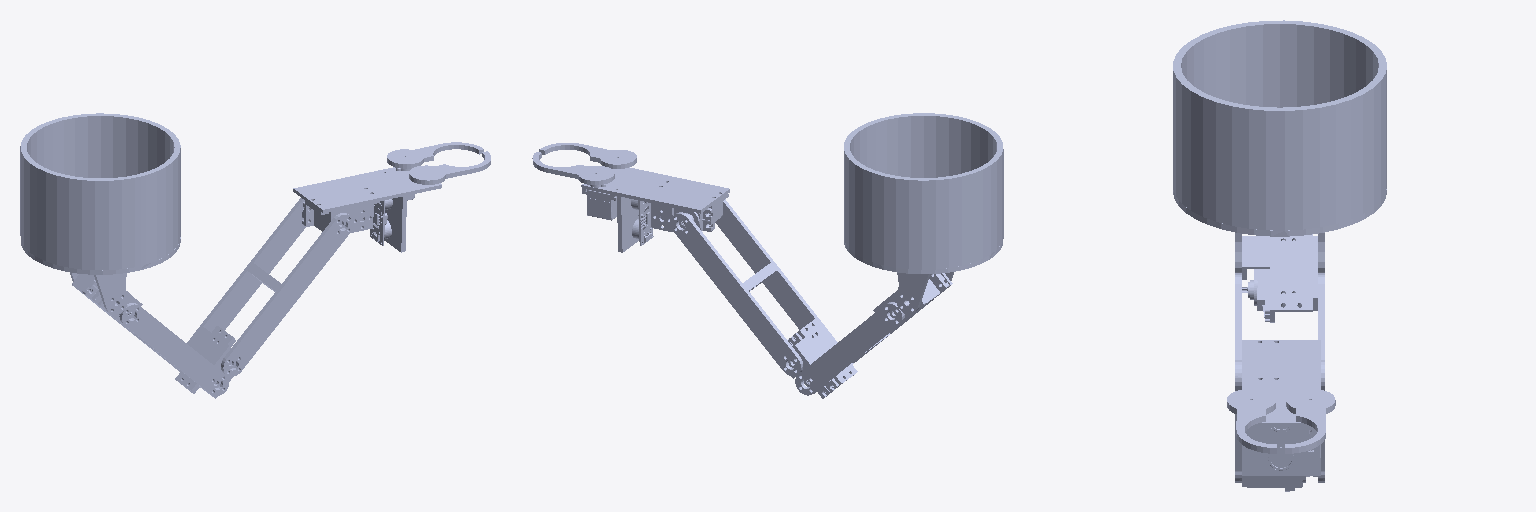
URDF robot description (ASSEM 2):
<?xml version="1.0" encoding="utf-8"?>
<!-- This URDF was automatically created by SolidWorks to URDF Exporter! Originally created by [author] ([email redacted]) 
     Commit Version: 1.6.0-4-g7f85cfe  Build Version: 1.6.7995.38578
     For more information, please see http://wiki.ros.org/sw_urdf_exporter -->
<robot
  name="ASSEM 2">
  <link
    name="base_link">
    <inertial>
      <origin
        xyz="0 1.38777878078145E-17 -0.04"
        rpy="0 0 0" />
      <mass
        value="0.15707963267949" />
      <inertia
        ixx="0.000391062835524979"
        ixy="6.21980377065526E-36"
        ixz="-9.88120452211026E-36"
        iyy="0.00039106283552498"
        iyz="6.48862588558017E-36"
        izz="0.000614574062858504" />
    </inertial>
    <visual>
      <origin
        xyz="0 0 0"
        rpy="0 0 0" />
      <geometry>
        <mesh
          filename="package://ASSEM 2/meshes/base_link.STL" />
      </geometry>
      <material
        name="">
        <color
          rgba="0.792156862745098 0.819607843137255 0.933333333333333 1" />
      </material>
    </visual>
    <collision>
      <origin
        xyz="0 0 0"
        rpy="0 0 0" />
      <geometry>
        <mesh
          filename="package://ASSEM 2/meshes/base_link.STL" />
      </geometry>
    </collision>
  </link>
  <link
    name="link1">
    <inertial>
      <origin
        xyz="0.00277146259382868 0.000977617047691573 -0.0392275940929765"
        rpy="0 0 0" />
      <mass
        value="0.10392584627471" />
      <inertia
        ixx="8.06918285221046E-05"
        ixy="-2.30972045071663E-07"
        ixz="1.9180114960661E-06"
        iyy="7.3013450070366E-05"
        iyz="2.74033815861124E-07"
        izz="0.000130206094147028" />
    </inertial>
    <visual>
      <origin
        xyz="0 0 0"
        rpy="0 0 0" />
      <geometry>
        <mesh
          filename="package://ASSEM 2/meshes/link1.STL" />
      </geometry>
      <material
        name="">
        <color
          rgba="0.792156862745098 0.819607843137255 0.933333333333333 1" />
      </material>
    </visual>
    <collision>
      <origin
        xyz="0 0 0"
        rpy="0 0 0" />
      <geometry>
        <mesh
          filename="package://ASSEM 2/meshes/link1.STL" />
      </geometry>
    </collision>
  </link>
  <joint
    name="joint1"
    type="revolute">
    <origin
      xyz="0 0 -0.065295"
      rpy="0 0 0" />
    <parent
      link="base_link" />
    <child
      link="link1" />
    <axis
      xyz="0 0 -1" />
    <limit
      lower="0"
      upper="0"
      effort="0"
      velocity="0" />
  </joint>
  <link
    name="link2">
    <inertial>
      <origin
        xyz="0.0403015509937278 -0.0403015509937268 0.0815648422319146"
        rpy="0 0 0" />
      <mass
        value="0.0258099114254626" />
      <inertia
        ixx="1.91418266297321E-05"
        ixy="4.72708625206505E-06"
        ixz="-5.50219404184871E-21"
        iyy="1.91418266297323E-05"
        iyz="5.27278066883589E-21"
        izz="1.12484016319642E-05" />
    </inertial>
    <visual>
      <origin
        xyz="0 0 0"
        rpy="0 0 0" />
      <geometry>
        <mesh
          filename="package://ASSEM 2/meshes/link2.STL" />
      </geometry>
      <material
        name="">
        <color
          rgba="0.792156862745098 0.819607843137255 0.933333333333333 1" />
      </material>
    </visual>
    <collision>
      <origin
        xyz="0 0 0"
        rpy="0 0 0" />
      <geometry>
        <mesh
          filename="package://ASSEM 2/meshes/link2.STL" />
      </geometry>
    </collision>
  </link>
  <joint
    name="joint2"
    type="revolute">
    <origin
      xyz="0.014245 0.081565 -0.077949"
      rpy="1.5708 0 0" />
    <parent
      link="link1" />
    <child
      link="link2" />
    <axis
      xyz="0 0 -1" />
    <limit
      lower="-3.14"
      upper="3.14"
      effort="0.8357"
      velocity="5.235" />
  </joint>
  <link
    name="link3">
    <inertial>
      <origin
        xyz="0.0323024454898762 0.0330392074388971 0.0830187996879243"
        rpy="0 0 0" />
      <mass
        value="0.0698780273763374" />
      <inertia
        ixx="3.55297243478853E-05"
        ixy="-1.12773149423438E-05"
        ixz="2.33341441598977E-07"
        iyy="3.59517146165329E-05"
        iyz="2.72019095535887E-07"
        izz="2.75333599213435E-05" />
    </inertial>
    <visual>
      <origin
        xyz="0 0 0"
        rpy="0 0 0" />
      <geometry>
        <mesh
          filename="package://ASSEM 2/meshes/link3.STL" />
      </geometry>
      <material
        name="">
        <color
          rgba="0.792156862745098 0.819607843137255 0.933333333333333 1" />
      </material>
    </visual>
    <collision>
      <origin
        xyz="0 0 0"
        rpy="0 0 0" />
      <geometry>
        <mesh
          filename="package://ASSEM 2/meshes/link3.STL" />
      </geometry>
    </collision>
  </link>
  <joint
    name="joint3"
    type="revolute">
    <origin
      xyz="0.0806066375213615 -0.0806066375213595 0"
      rpy="0 0 0" />
    <parent
      link="link2" />
    <child
      link="link3" />
    <axis
      xyz="0 0 -1" />
    <limit
      lower="-3.14"
      upper="3.14"
      effort="0.83357"
      velocity="5.235" />
  </joint>
  <link
    name="link4">
    <inertial>
      <origin
        xyz="0.0315375369846145 0.000942829333490151 0.0215178892714787"
        rpy="0 0 0" />
      <mass
        value="0.0770925872338047" />
      <inertia
        ixx="1.83587552242031E-05"
        ixy="3.43021070226104E-06"
        ixz="4.36773633370026E-07"
        iyy="3.62874257481099E-05"
        iyz="4.19679017550082E-08"
        izz="3.35923516563554E-05" />
    </inertial>
    <visual>
      <origin
        xyz="0 0 0"
        rpy="0 0 0" />
      <geometry>
        <mesh
          filename="package://ASSEM 2/meshes/link4.STL" />
      </geometry>
      <material
        name="">
        <color
          rgba="0.792156862745098 0.819607843137255 0.933333333333333 1" />
      </material>
    </visual>
    <collision>
      <origin
        xyz="0 0 0"
        rpy="0 0 0" />
      <geometry>
        <mesh
          filename="package://ASSEM 2/meshes/link4.STL" />
      </geometry>
    </collision>
  </link>
  <joint
    name="joint4"
    type="revolute">
    <origin
      xyz="0.117062359119247 0.115053071254504 0.0592138803375897"
      rpy="0 0 0" />
    <parent
      link="link3" />
    <child
      link="link4" />
    <axis
      xyz="0 0 -1" />
    <limit
      lower="-3.14"
      upper="3.14"
      effort="0.83357"
      velocity="5.235" />
  </joint>
  <link
    name="gripkiri">
    <inertial>
      <origin
        xyz="0.014682818458544 -0.000406177253536102 -0.0218916024198144"
        rpy="0 0 0" />
      <mass
        value="0.00468228410417343" />
      <inertia
        ixx="2.35592289956318E-07"
        ixy="-2.02600157549245E-08"
        ixz="-1.45292461833238E-22"
        iyy="2.06790380943813E-06"
        iyz="-6.46592022391514E-24"
        izz="2.29101000844998E-06" />
    </inertial>
    <visual>
      <origin
        xyz="0 0 0"
        rpy="0 0 0" />
      <geometry>
        <mesh
          filename="package://ASSEM 2/meshes/gripkiri.STL" />
      </geometry>
      <material
        name="">
        <color
          rgba="0.792156862745098 0.819607843137255 0.933333333333333 1" />
      </material>
    </visual>
    <collision>
      <origin
        xyz="0 0 0"
        rpy="0 0 0" />
      <geometry>
        <mesh
          filename="package://ASSEM 2/meshes/gripkiri.STL" />
      </geometry>
    </collision>
  </link>
  <joint
    name="gripkiri"
    type="revolute">
    <origin
      xyz="0.084296005674642 0.0435030263892294 0.0395009618943247"
      rpy="-1.5707963267949 0 -0.0309604369909043" />
    <parent
      link="link4" />
    <child
      link="gripkiri" />
    <axis
      xyz="0 0 -1" />
    <limit
      lower="-3.14"
      upper="3.14"
      effort="0.21575"
      velocity="10.47" />
  </joint>
  <link
    name="endkiri">
    <inertial>
      <origin
        xyz="-0.287972996648998 0.00178516586371753 -0.0217965070142749"
        rpy="0 0 0" />
      <mass
        value="0.443150595663642" />
      <inertia
        ixx="0.00196078344559034"
        ixy="-1.30067282999552E-05"
        ixz="0.000876779035566921"
        iyy="0.00646286226177141"
        iyz="-8.01893940297324E-06"
        izz="0.00536100266374495" />
    </inertial>
    <visual>
      <origin
        xyz="0 0 0"
        rpy="0 0 0" />
      <geometry>
        <mesh
          filename="package://ASSEM 2/meshes/endkiri.STL" />
      </geometry>
      <material
        name="">
        <color
          rgba="1 1 1 1" />
      </material>
    </visual>
    <collision>
      <origin
        xyz="0 0 0"
        rpy="0 0 0" />
      <geometry>
        <mesh
          filename="package://ASSEM 2/meshes/endkiri.STL" />
      </geometry>
    </collision>
  </link>
  <joint
    name="endkiri"
    type="fixed">
    <origin
      xyz="0.0657309702758853 0.0155256915901593 -0.0198916024198144"
      rpy="0 0 0" />
    <parent
      link="gripkiri" />
    <child
      link="endkiri" />
    <axis
      xyz="0 0 0" />
  </joint>
  <link
    name="gripkanan">
    <inertial>
      <origin
        xyz="0.0148063042759796 0.000414028412186004 -0.0218862224173077"
        rpy="0 0 0" />
      <mass
        value="0.00468228410417343" />
      <inertia
        ixx="2.35570244923864E-07"
        ixy="1.9237317523319E-08"
        ixz="-5.70220168567931E-23"
        iyy="2.06792585447058E-06"
        iyz="-1.23541639058095E-24"
        izz="2.29101000844998E-06" />
    </inertial>
    <visual>
      <origin
        xyz="0 0 0"
        rpy="0 0 0" />
      <geometry>
        <mesh
          filename="package://ASSEM 2/meshes/gripkanan.STL" />
      </geometry>
      <material
        name="">
        <color
          rgba="0.792156862745098 0.819607843137255 0.933333333333333 1" />
      </material>
    </visual>
    <collision>
      <origin
        xyz="0 0 0"
        rpy="0 0 0" />
      <geometry>
        <mesh
          filename="package://ASSEM 2/meshes/gripkanan.STL" />
      </geometry>
    </collision>
  </link>
  <joint
    name="gripkanan"
    type="revolute">
    <origin
      xyz="0.0841222076722561 0.0435030263892294 0.00370096189432474"
      rpy="-1.5707963267949 0 -0.0309604369909049" />
    <parent
      link="link4" />
    <child
      link="gripkanan" />
    <axis
      xyz="0 0 -1" />
    <limit
      lower="-3.14"
      upper="3.14"
      effort="0.21575"
      velocity="10.47" />
  </joint>
  <link
    name="endkanan">
    <inertial>
      <origin
        xyz="-0.287253246196077 -0.00299979659536508 -0.043701528570305"
        rpy="0 0 0" />
      <mass
        value="0.443150595663642" />
      <inertia
        ixx="0.00196078344559034"
        ixy="-1.30067282999552E-05"
        ixz="0.000876779035566919"
        iyy="0.00646286226177141"
        iyz="-8.0189394029734E-06"
        izz="0.00536100266374495" />
    </inertial>
    <visual>
      <origin
        xyz="0 0 0"
        rpy="0 0 0" />
      <geometry>
        <mesh
          filename="package://ASSEM 2/meshes/endkanan.STL" />
      </geometry>
      <material
        name="">
        <color
          rgba="1 1 1 1" />
      </material>
    </visual>
    <collision>
      <origin
        xyz="0 0 0"
        rpy="0 0 0" />
      <geometry>
        <mesh
          filename="package://ASSEM 2/meshes/endkanan.STL" />
      </geometry>
    </collision>
  </link>
  <joint
    name="endkanan"
    type="fixed">
    <origin
      xyz="0.0651849345350827 -0.0154893459507581 0.00201879913872238"
      rpy="0 0 0" />
    <parent
      link="gripkanan" />
    <child
      link="endkanan" />
    <axis
      xyz="0 0 0" />
  </joint>
</robot>

--- Facts derived from the render (not from the file) ---
The picture shows the robot from 3 angles, left to right: view 1: azimuth 30°, elevation 25°; view 2: azimuth 150°, elevation 25°; view 3: azimuth 270°, elevation 25°; orthographic projection.
Robot: ASSEM 2 — 9 links, 8 joints (6 revolute, 2 fixed); root link base_link; default pose: every joint at zero.
Visible links, largest first — view 1: base_link, link3, link4, link2, link1, gripkanan, gripkiri; view 2: base_link, link3, link4, link2, link1, gripkiri, gripkanan; view 3: base_link, link4, link1, gripkanan, gripkiri, link3, link2.
Boxes of the visible links, box(x1,y1,x2,y2) form: base_link: box(20, 113, 180, 269); link3: box(175, 198, 353, 398); link4: box(293, 167, 441, 252); link2: box(99, 303, 228, 395); link1: box(21, 237, 180, 326); gripkanan: box(387, 142, 483, 168); gripkiri: box(409, 151, 490, 184); base_link: box(844, 113, 1003, 269); link3: box(670, 199, 857, 398); link4: box(581, 167, 729, 252); link2: box(795, 299, 933, 395); link1: box(844, 238, 1003, 327); gripkiri: box(539, 143, 636, 168); gripkanan: box(532, 152, 614, 184); base_link: box(1173, 20, 1386, 230); link4: box(1242, 340, 1320, 475); link1: box(1173, 189, 1386, 322); gripkanan: box(1285, 389, 1335, 453); gripkiri: box(1227, 389, 1276, 453); link3: box(1235, 360, 1324, 491); link2: box(1235, 273, 1324, 482).
Size in the robot's own frame: 0.4262 by 0.13 by 0.2429 metres.
Meshes: 9 distinct files referenced, 7 mesh visuals loaded (7 binary STL); not drawn: 2 (reference not matched to a file when rendering).